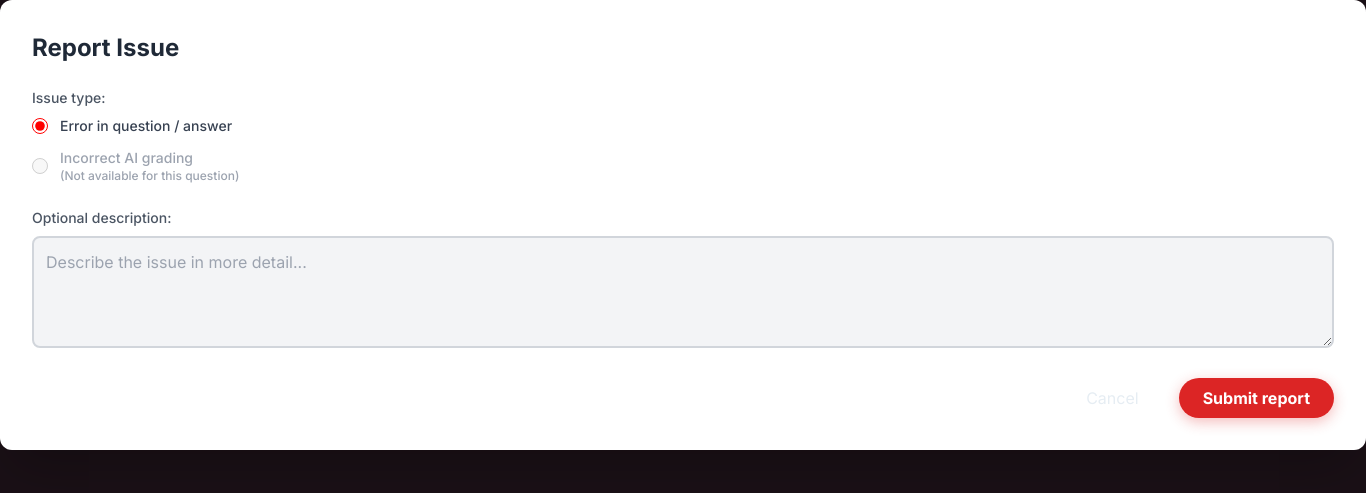
Scenario: ReportModal — interactions › submit button is disabled while request is pending
This screenshot has width=1366, height=493.
Get a reference to the submit button before clicking
Click the button "Submit report".
click(1256, 398)  # box [1179,378,1334,418]
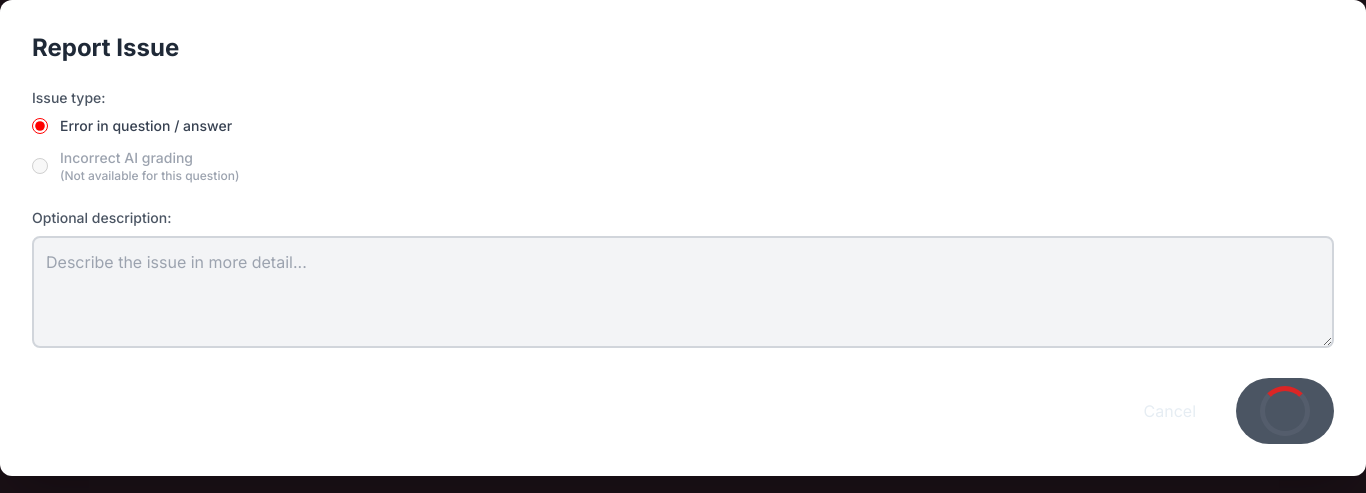
Now the submit button is disabled, box [1236,378,1334,444]
